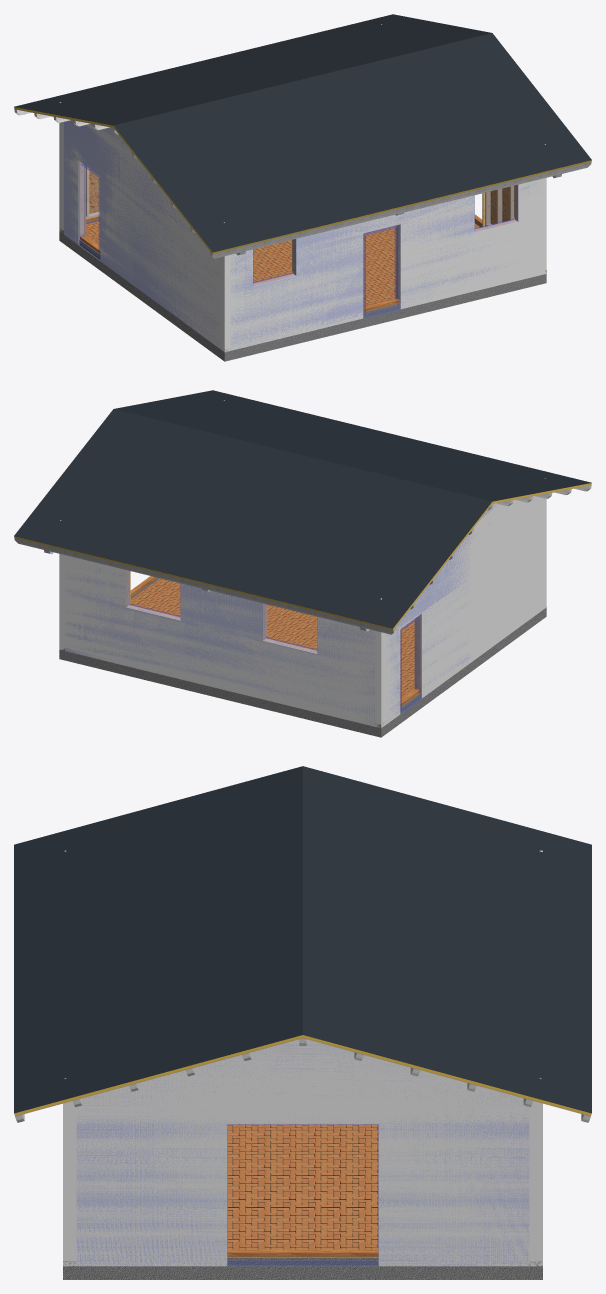
Rendered from store_high_poly.glb.
The picture shows the model from 3 angles, top to bottom: view 1: azimuth 30°, elevation 25°; view 2: azimuth 150°, elevation 25°; view 3: azimuth 270°, elevation 25°; orthographic projection. The views are drawn at different scales.
Parts seen in each view (by area): view 1: Material2 (×65); view 2: Material2 (×60); view 3: Material2 (×60).
Boxes of the visible parts, x1,y1,x2,y2 form: Material2 (×65): (14,14,591,361); Material2 (×60): (14,390,591,737); Material2 (×60): (14,766,591,1279).
Size of the model in its own units: 417 by 192 by 379.
17 materials, 17 textured.
